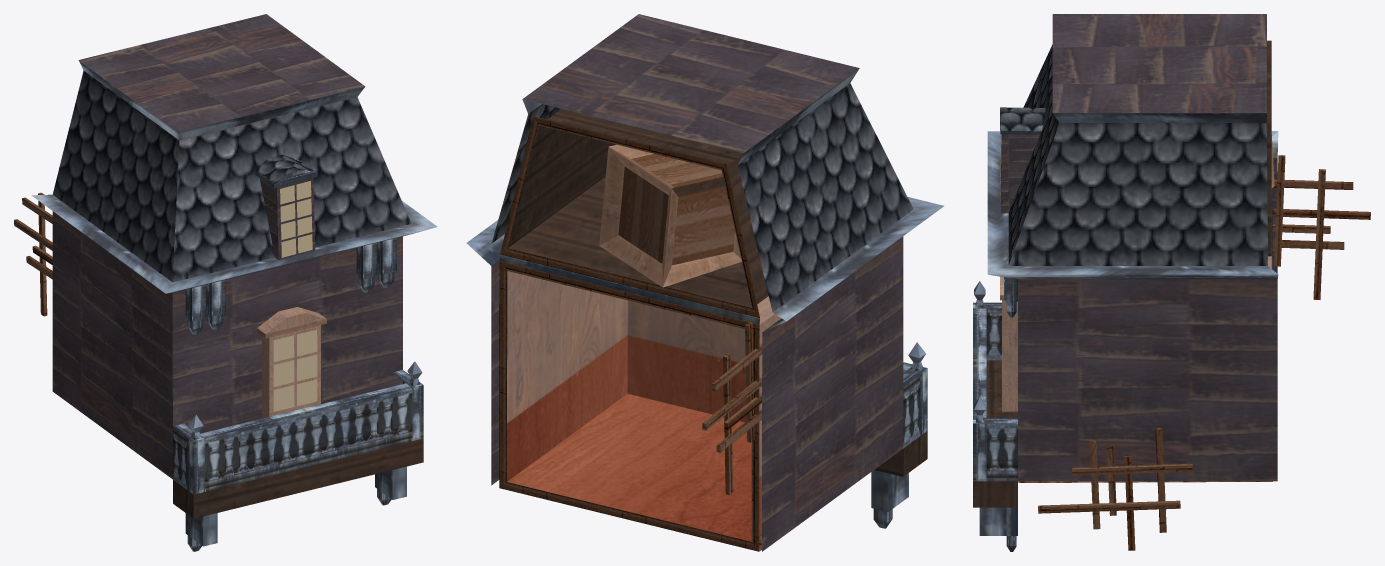
Rendered from Spooky_Tower_Floating_Cabin_01_Art.fbx.
The picture shows the model from 3 angles, left to right: view 1: azimuth 30°, elevation 25°; view 2: azimuth 150°, elevation 25°; view 3: azimuth 270°, elevation 25°; orthographic projection. The views are drawn at different scales.
Visible parts, largest first — view 1: Spooky_Tower_Floating_Cabin_01_Art; view 2: Spooky_Tower_Floating_Cabin_01_Art; view 3: Spooky_Tower_Floating_Cabin_01_Art.
Part boxes in pixels (<box>): Spooky_Tower_Floating_Cabin_01_Art: <box>14,14,437,551</box>; Spooky_Tower_Floating_Cabin_01_Art: <box>466,14,943,551</box>; Spooky_Tower_Floating_Cabin_01_Art: <box>973,14,1370,551</box>.
Bounding box in the file's own units: 355 × 504 × 415.
